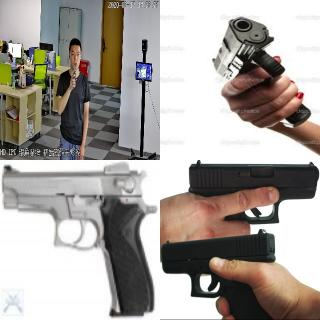gun: (4, 166, 154, 318), (212, 12, 310, 128), (160, 228, 274, 319), (188, 160, 318, 223), (68, 64, 78, 86)
